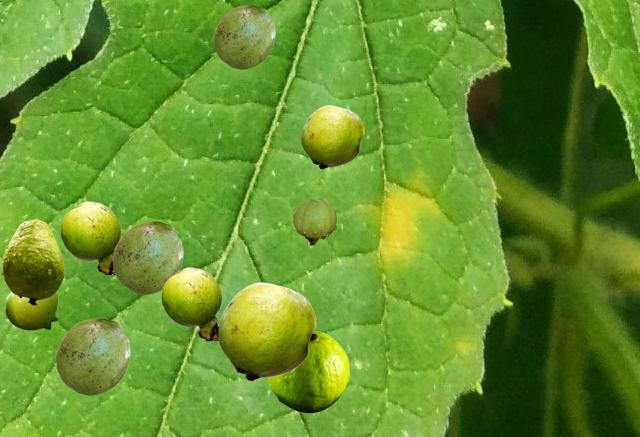guava: (218, 282, 315, 380), (267, 331, 348, 412), (55, 318, 129, 394), (1, 219, 63, 304), (112, 221, 182, 293), (60, 201, 120, 273), (161, 267, 221, 339), (301, 105, 363, 168), (213, 5, 274, 68), (293, 198, 335, 244), (5, 292, 57, 329)
